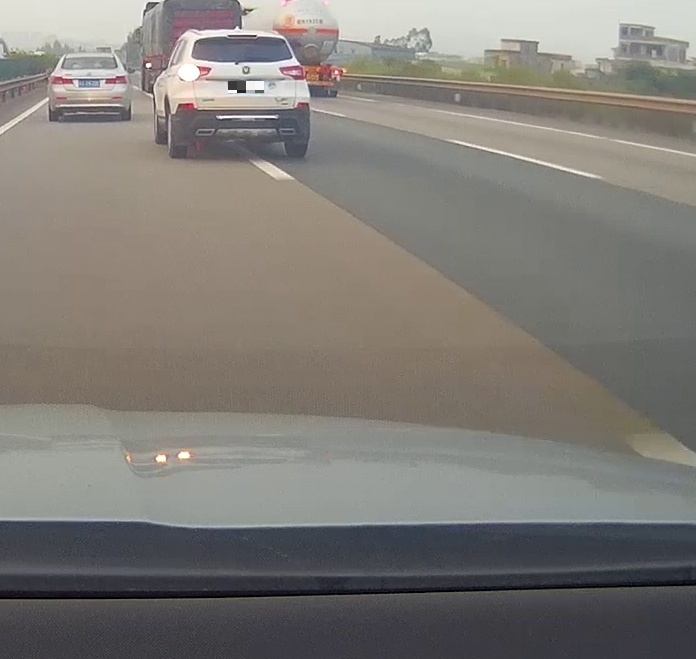L_light: (177, 63, 212, 82), (50, 75, 73, 84)
R_light: (279, 65, 307, 80), (105, 76, 127, 84)
T_light: (226, 34, 258, 39), (84, 55, 94, 58)
day-left: (174, 29, 310, 158)
day-no: (50, 53, 129, 122)
plate_1: (228, 81, 264, 93)
